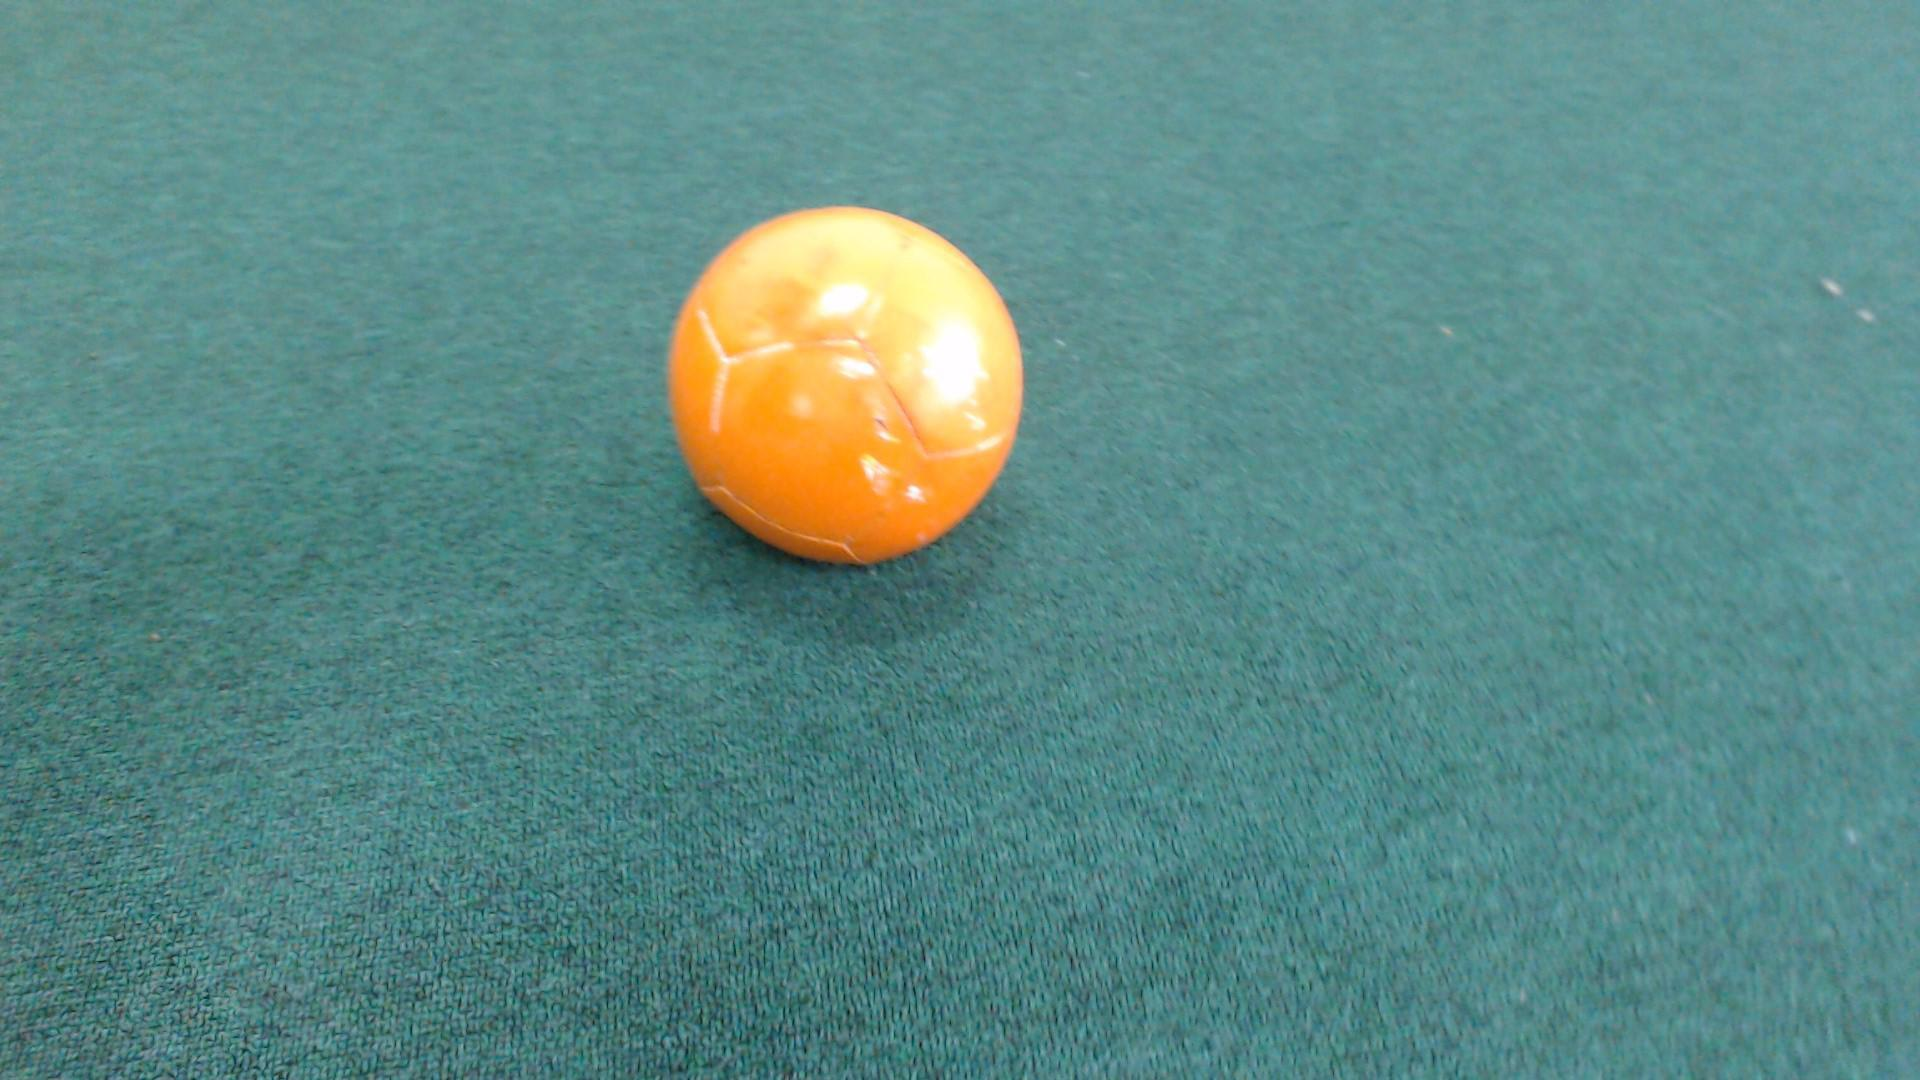bola: (634, 185, 1054, 587)
